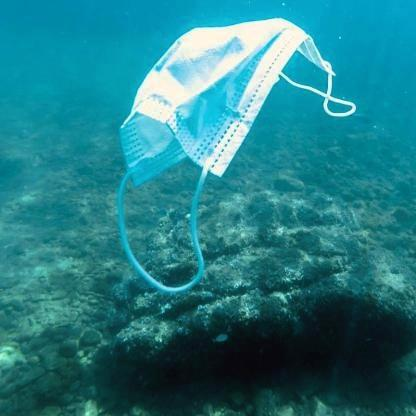Mask: (108, 16, 351, 298)
